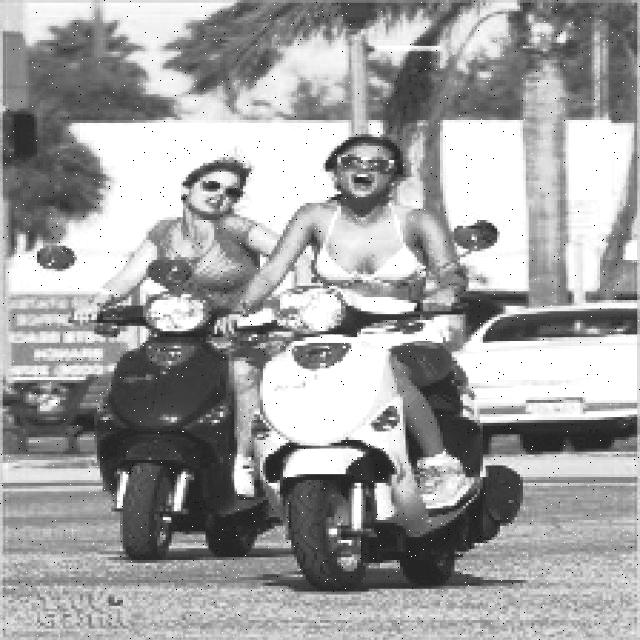Bike: (242, 296, 532, 584), (73, 305, 274, 559)
